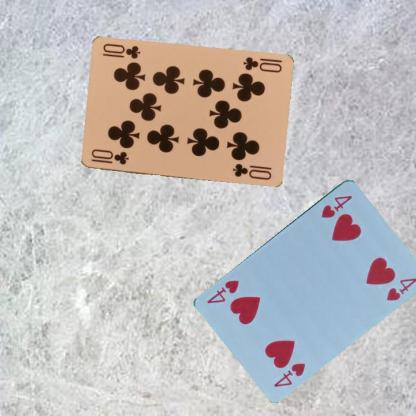10c: (88, 146, 130, 166), (240, 54, 282, 74)
4h: (271, 360, 307, 388), (318, 192, 354, 219)
